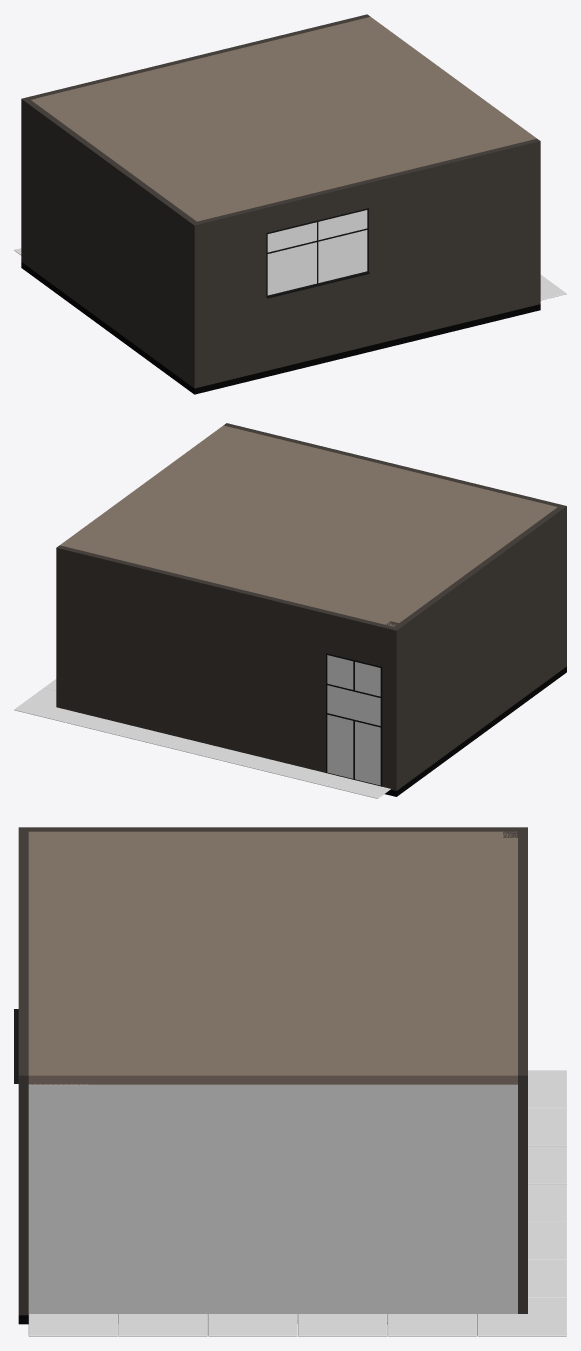
Rendered from uploads_files_2798260_Gaming_Room(online).glb.
The picture shows the model from 3 angles, top to bottom: view 1: azimuth 30°, elevation 25°; view 2: azimuth 150°, elevation 25°; view 3: azimuth 270°, elevation 25°; orthographic projection. The views are drawn at different scales.
Parts seen in each view (by area): view 1: Cube.072, Cube.002, Cube.004, Cube.003, Window.001, Window.009, Cube.001, Window.010, Window.011; view 2: Cube.072, Cube.001, Cube.004, Cube.002, Window.022, Window, Window.023, Cube.003, Cube.150, Window.020, Window.021, Cube.144 (+5 smaller); view 3: Cube.072, Cube.073, Cube.002, Cube.001, Cube.150, Cube.004, Cube.143, Cube.122, Cube.129, Cube.115, Cube.136, Cube.144 (+5 smaller).
Boxes of the visible parts, x1,y1,x2,y2 form: Cube.072: (31,17,536,221); Cube.002: (191,139,540,388); Cube.004: (24,100,196,385); Cube.003: (21,262,540,394); Window.001: (267,242,316,295); Window.009: (318,230,367,282); Cube.001: (21,14,370,263); Window.010: (267,222,316,252); Window.011: (318,210,367,240); Cube.072: (60,425,557,626); Cube.001: (56,545,399,790); Cube.004: (394,507,563,788); Cube.002: (223,423,566,668); Window.022: (327,714,353,778); Window: (327,685,380,725); Window.023: (355,721,380,785); Cube.003: (385,666,566,796); Cube.150: (14,688,78,722); Window.020: (327,655,353,689); Window.021: (355,662,380,696); Cube.144: (326,776,390,798); Cube.072: (28,831,517,1084); Cube.073: (28,1084,517,1323); Cube.002: (18,827,28,1315); Cube.001: (518,827,527,1313); Cube.150: (477,1298,566,1336); Cube.004: (28,827,517,831); Cube.143: (387,1314,477,1336); Cube.122: (118,1314,207,1336); Cube.129: (208,1314,297,1336); Cube.115: (28,1314,117,1336); Cube.136: (298,1314,387,1336); Cube.144: (528,1070,566,1108).
Size of the model in its own units: 6.52 by 2.8 by 5.65.
